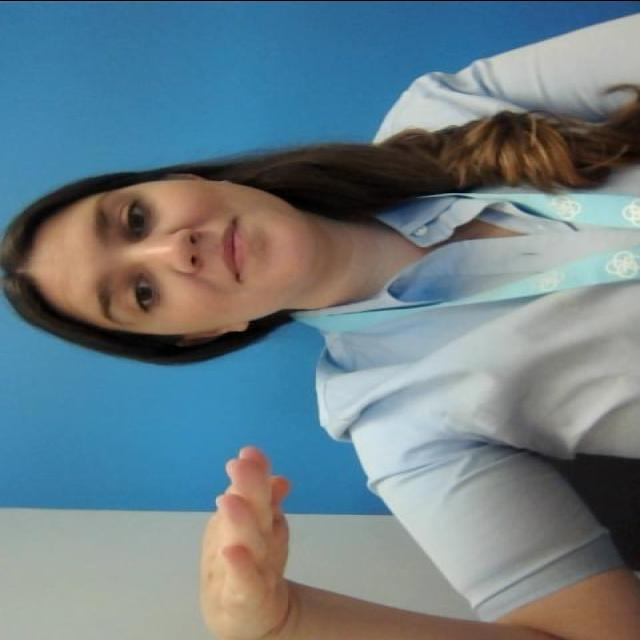Paper: (183, 439, 325, 623)
